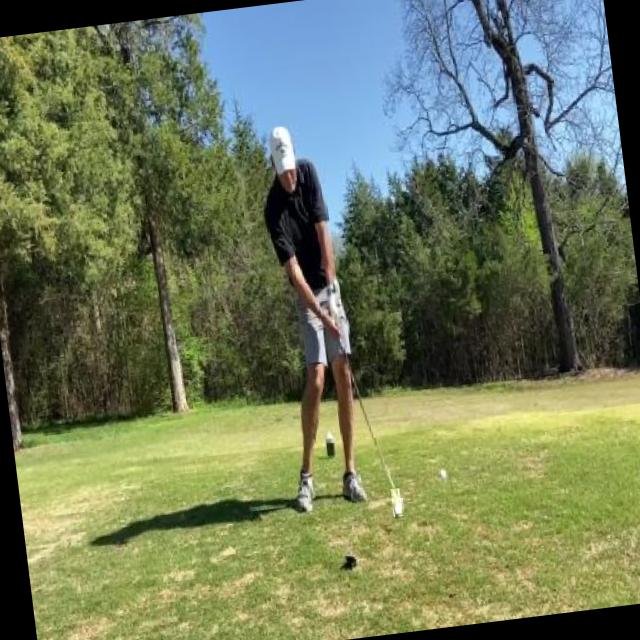club head: (391, 488, 404, 516)
